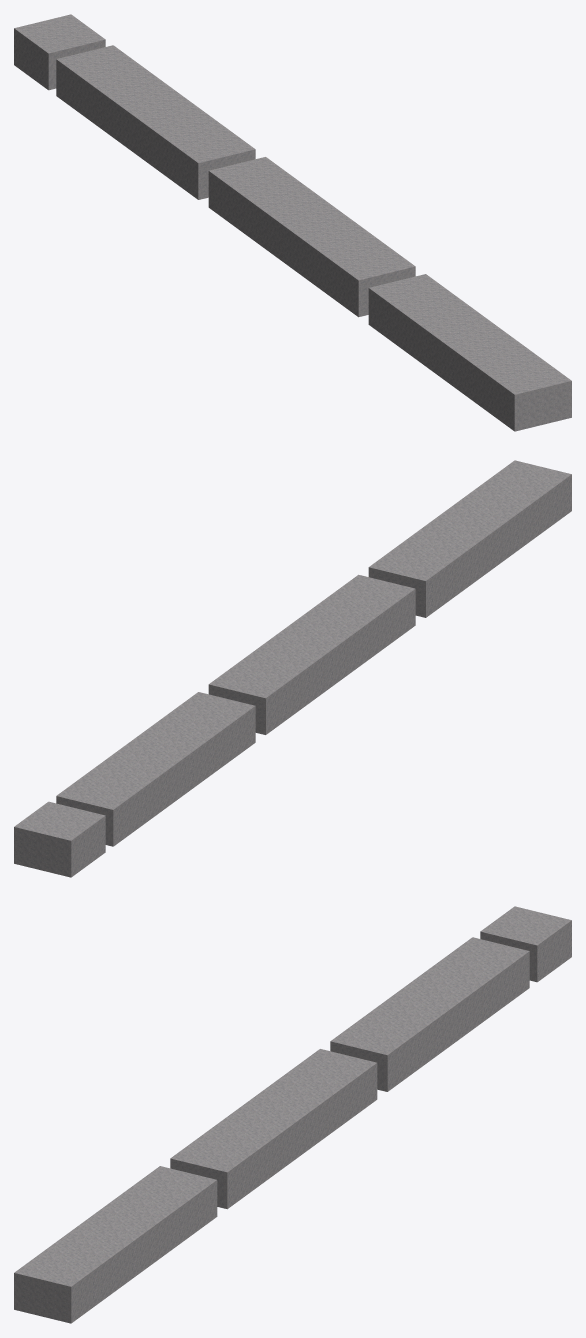
3 renders of one model, top to bottom at view 1: azimuth 30°, elevation 25°; view 2: azimuth 150°, elevation 25°; view 3: azimuth 330°, elevation 25°, orthographic.
Parts seen in each view (by area): view 1: 0_0_2_2_1_1_2_3_0; view 2: 0_0_2_2_1_1_2_3_0; view 3: 0_0_2_2_1_1_2_3_0.
Part boxes in pixels (bbox=[...]): 0_0_2_2_1_1_2_3_0: bbox=[14, 14, 571, 431]; 0_0_2_2_1_1_2_3_0: bbox=[14, 460, 571, 877]; 0_0_2_2_1_1_2_3_0: bbox=[14, 906, 571, 1323].
Size of the model in its own units: 1.3 by 0.8 by 19.71.
3 materials, 3 textured.
